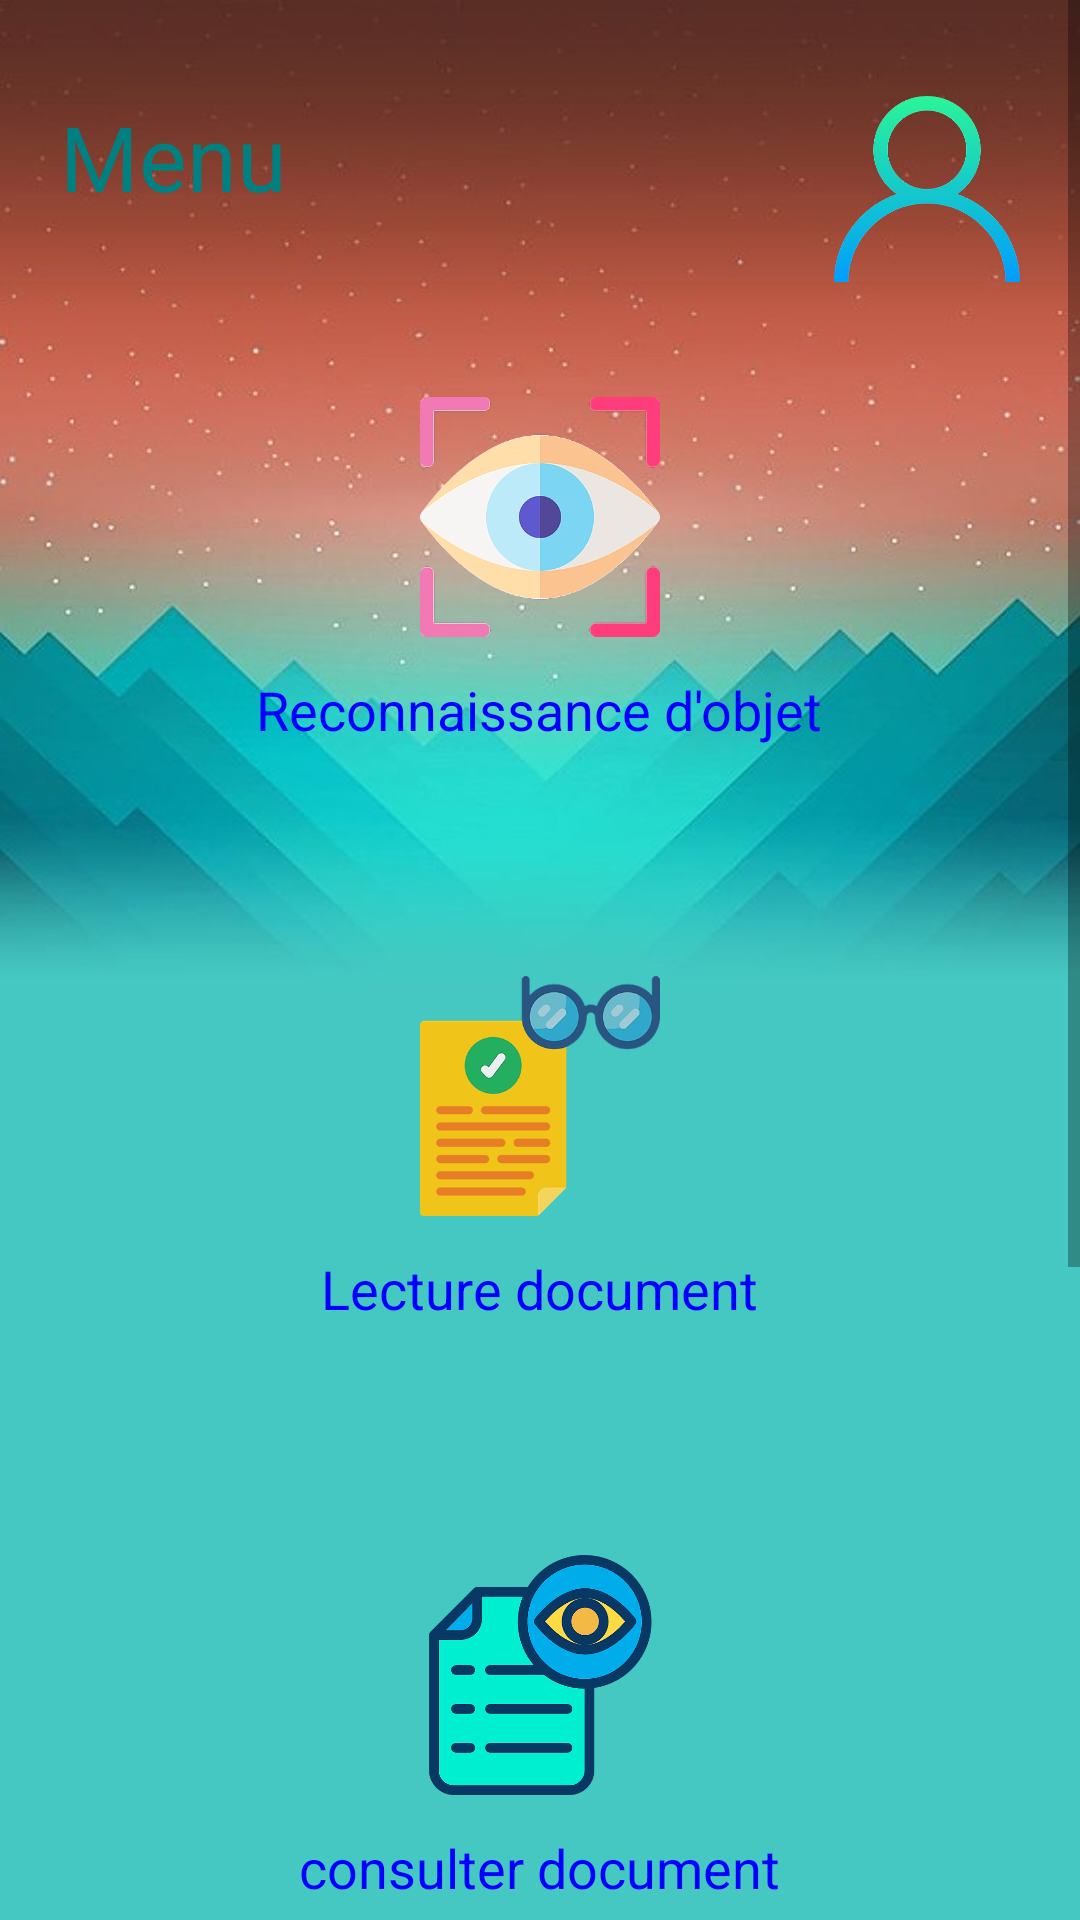

Named icons in this screenshot (1080w x 1920h) and their centers, (x=x, y=y):
eye: (x=540, y=517)
paper: (x=540, y=1096)
user: (x=927, y=189)
